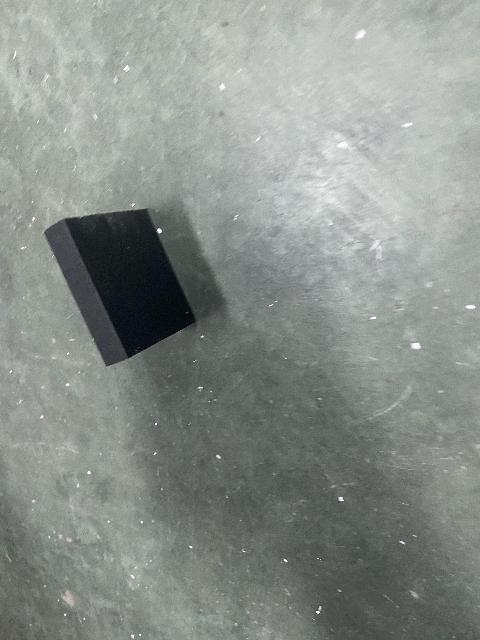Metal: (43, 208, 195, 367)
